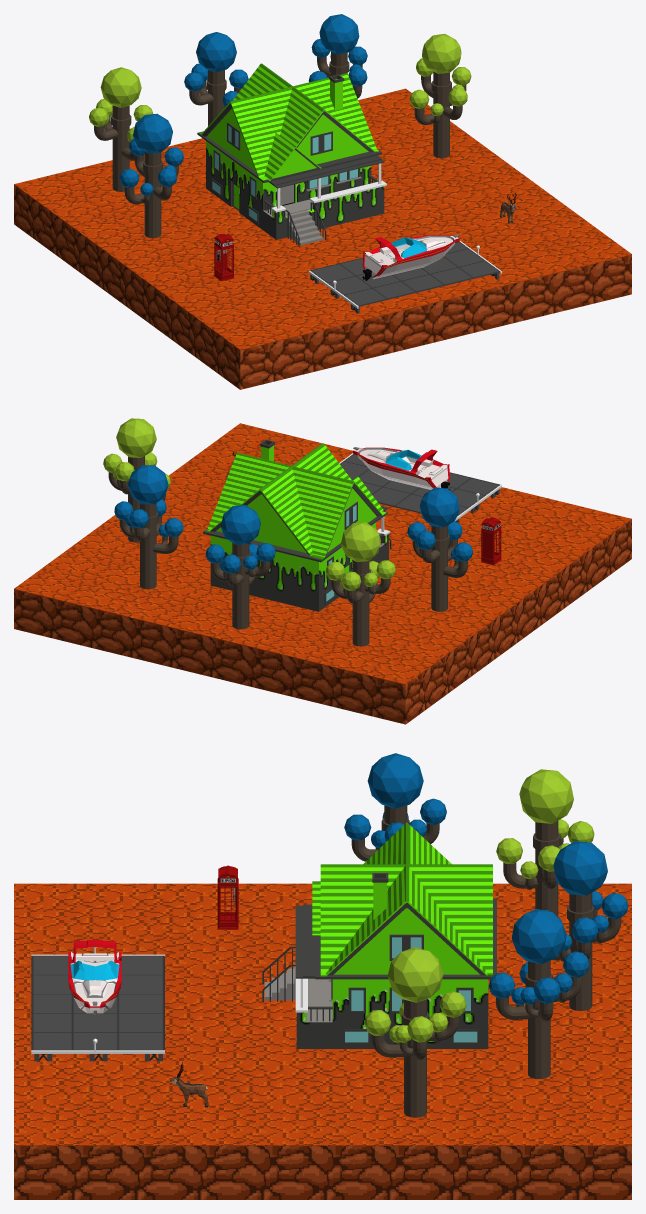
3 views of the same model, one above another, from view 1: azimuth 30°, elevation 25°; view 2: azimuth 150°, elevation 25°; view 3: azimuth 270°, elevation 25° (orthographic). The views are drawn at different scales.
Visible parts, largest first — view 1: Cube.001, Cube.754, VEHICLES_BOAT, OBJRANDOM_PHONEBOOTH; view 2: Cube.001, Cube.754, VEHICLES_BOAT, OBJRANDOM_PHONEBOOTH; view 3: Cube.001, Cube.754, VEHICLES_BOAT, OBJRANDOM_PHONEBOOTH.
Boxes of the visible parts, x1=… form: Cube.001: x1=14, y1=14, x2=631, y2=389; Cube.754: x1=197, y1=63, x2=386, y2=246; VEHICLES_BOAT: x1=362, y1=234, x2=459, y2=280; OBJRANDOM_PHONEBOOTH: x1=213, y1=234, x2=233, y2=281; Cube.001: x1=14, y1=418, x2=631, y2=724; Cube.754: x1=203, y1=439, x2=391, y2=611; VEHICLES_BOAT: x1=353, y1=447, x2=450, y2=490; OBJRANDOM_PHONEBOOTH: x1=481, y1=517, x2=501, y2=565; Cube.001: x1=14, y1=753, x2=631, y2=1199; Cube.754: x1=262, y1=823, x2=496, y2=1048; VEHICLES_BOAT: x1=68, y1=940, x2=121, y2=1014; OBJRANDOM_PHONEBOOTH: x1=217, y1=865, x2=238, y2=929.
Bounding box in the file's own units: 4000 × 1664 × 4000.
42 materials, 5 textured.
